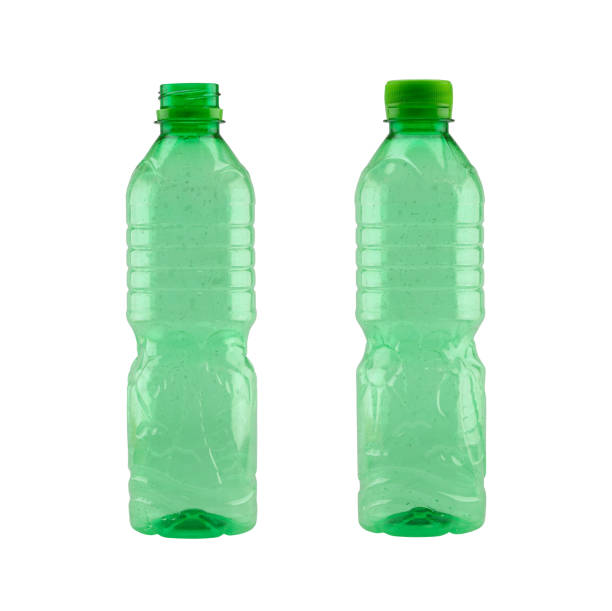HDPE Cap: (384, 80, 453, 106)
HDPE Ring: (385, 106, 451, 119), (155, 107, 222, 119)
PET Bottle: (354, 79, 488, 539), (125, 82, 259, 540)
